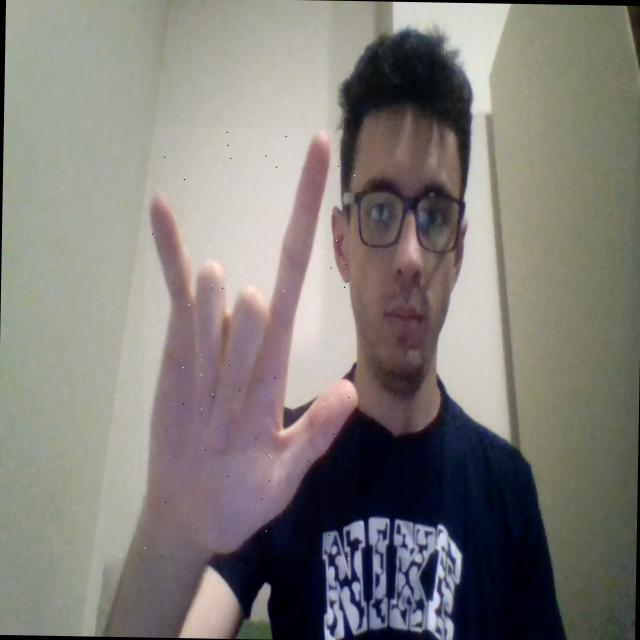iloveyou: (140, 126, 363, 560)
